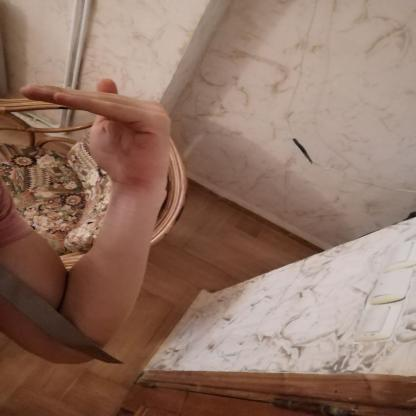KHAA: (5, 69, 190, 201)
